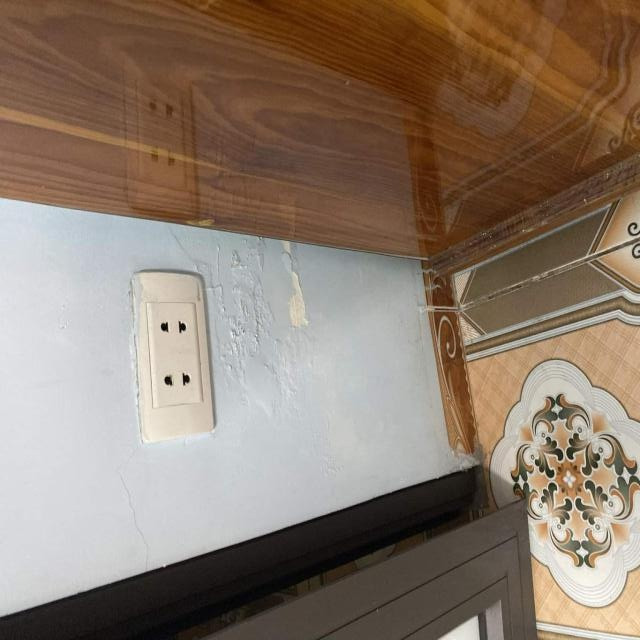outlet: (129, 271, 215, 444)
